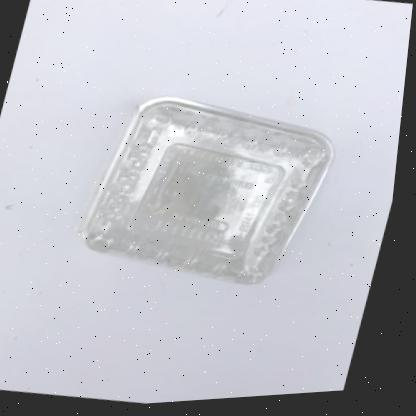Plastic: (85, 100, 336, 288)
